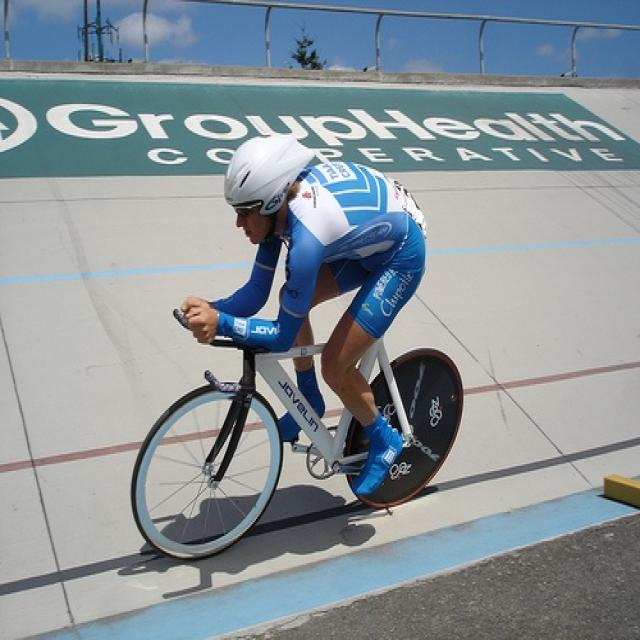bicycle: (127, 295, 463, 567)
